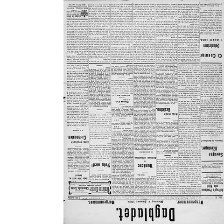news_paper: (63, 0, 223, 223)
